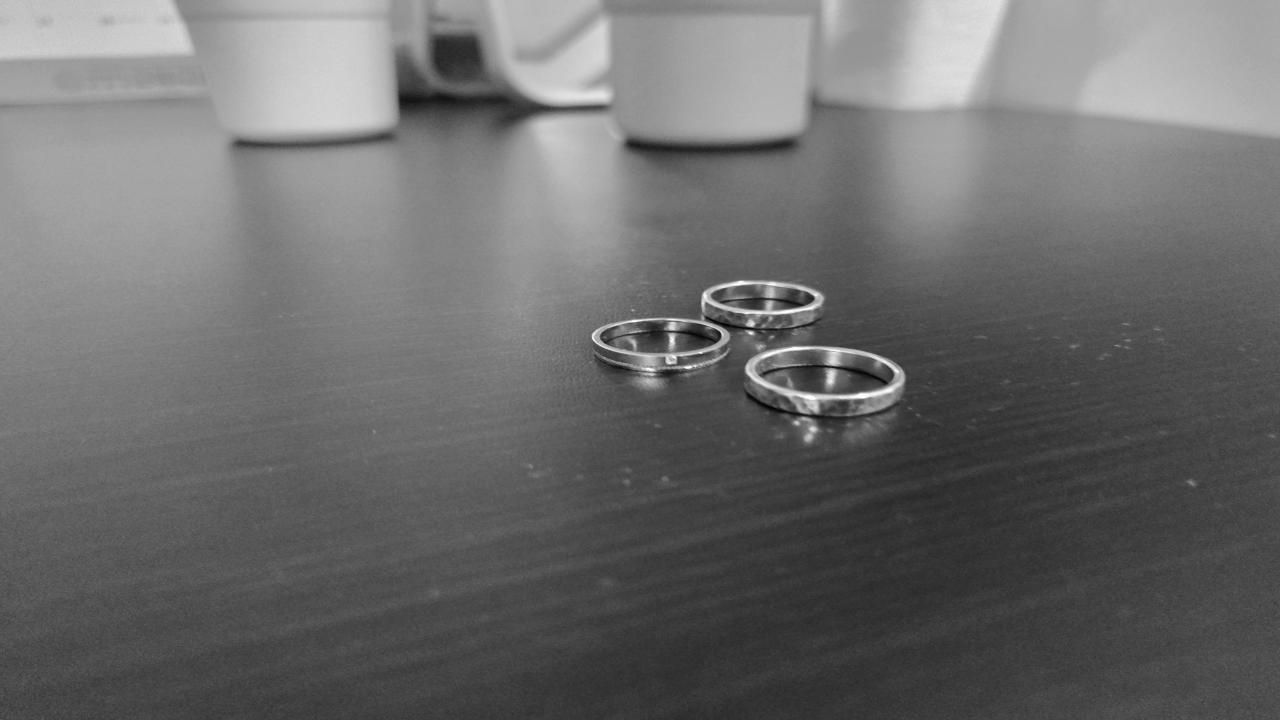ring: (741, 345, 909, 419), (586, 316, 730, 374), (700, 280, 828, 330)
